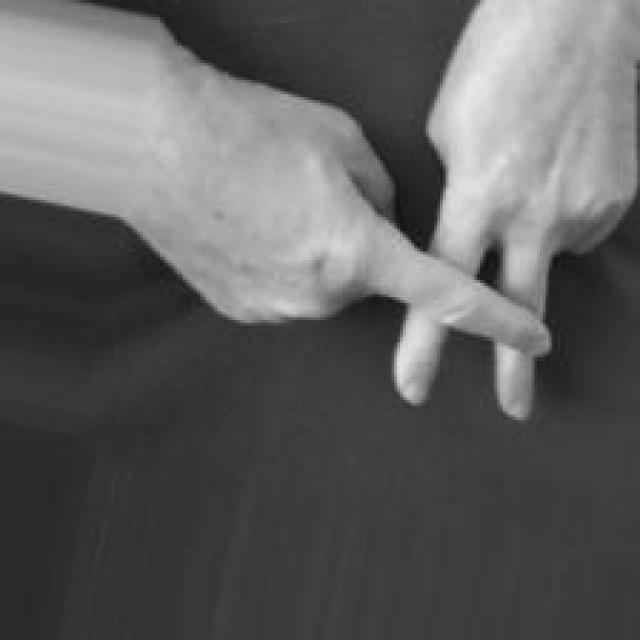A: (165, 0, 640, 425)
